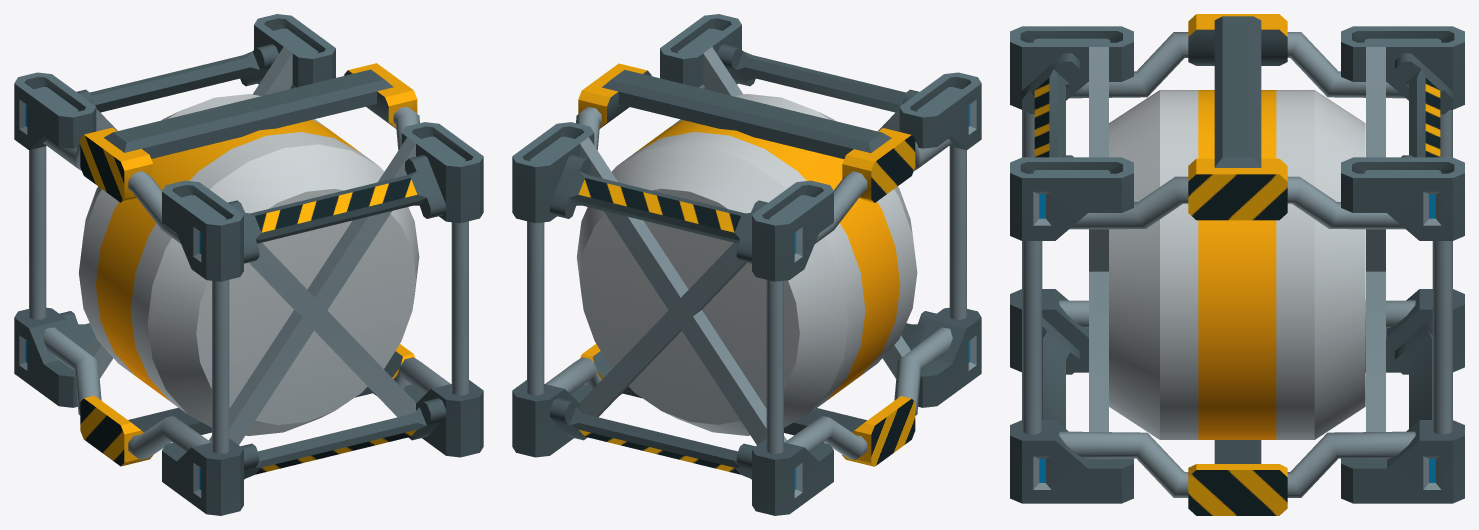
The model's file is Gas_cistern_type_B_001.glb.
3 views of the same model, side by side, from view 1: azimuth 30°, elevation 25°; view 2: azimuth 150°, elevation 25°; view 3: azimuth 270°, elevation 25° (orthographic). The views are drawn at different scales.
Parts seen in each view (by area): view 1: Gas_cistern_type_B_001; view 2: Gas_cistern_type_B_001; view 3: Gas_cistern_type_B_001.
Boxes of the visible parts, x1=… form: Gas_cistern_type_B_001: x1=14, y1=14, x2=483, y2=515; Gas_cistern_type_B_001: x1=512, y1=14, x2=981, y2=515; Gas_cistern_type_B_001: x1=1010, y1=14, x2=1464, y2=515.
Bounding box in the file's own units: 2.53 × 2.57 × 3.04.
Materials: 1 (1 with a texture image).
